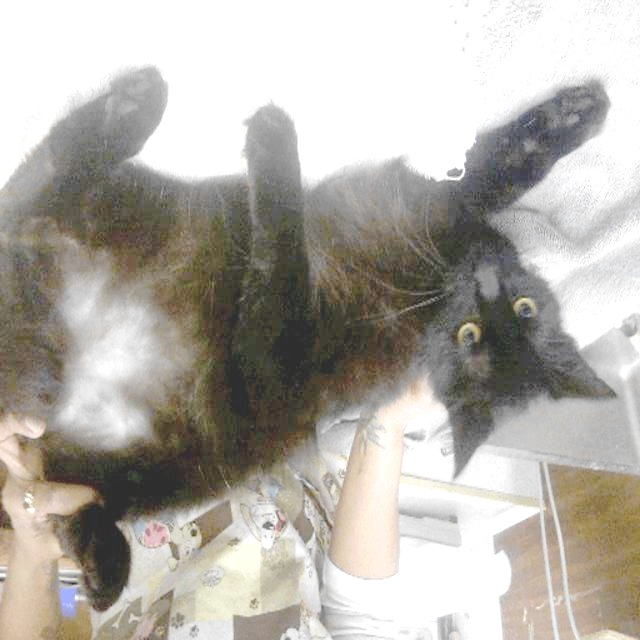hairloss: (58, 272, 155, 442)
